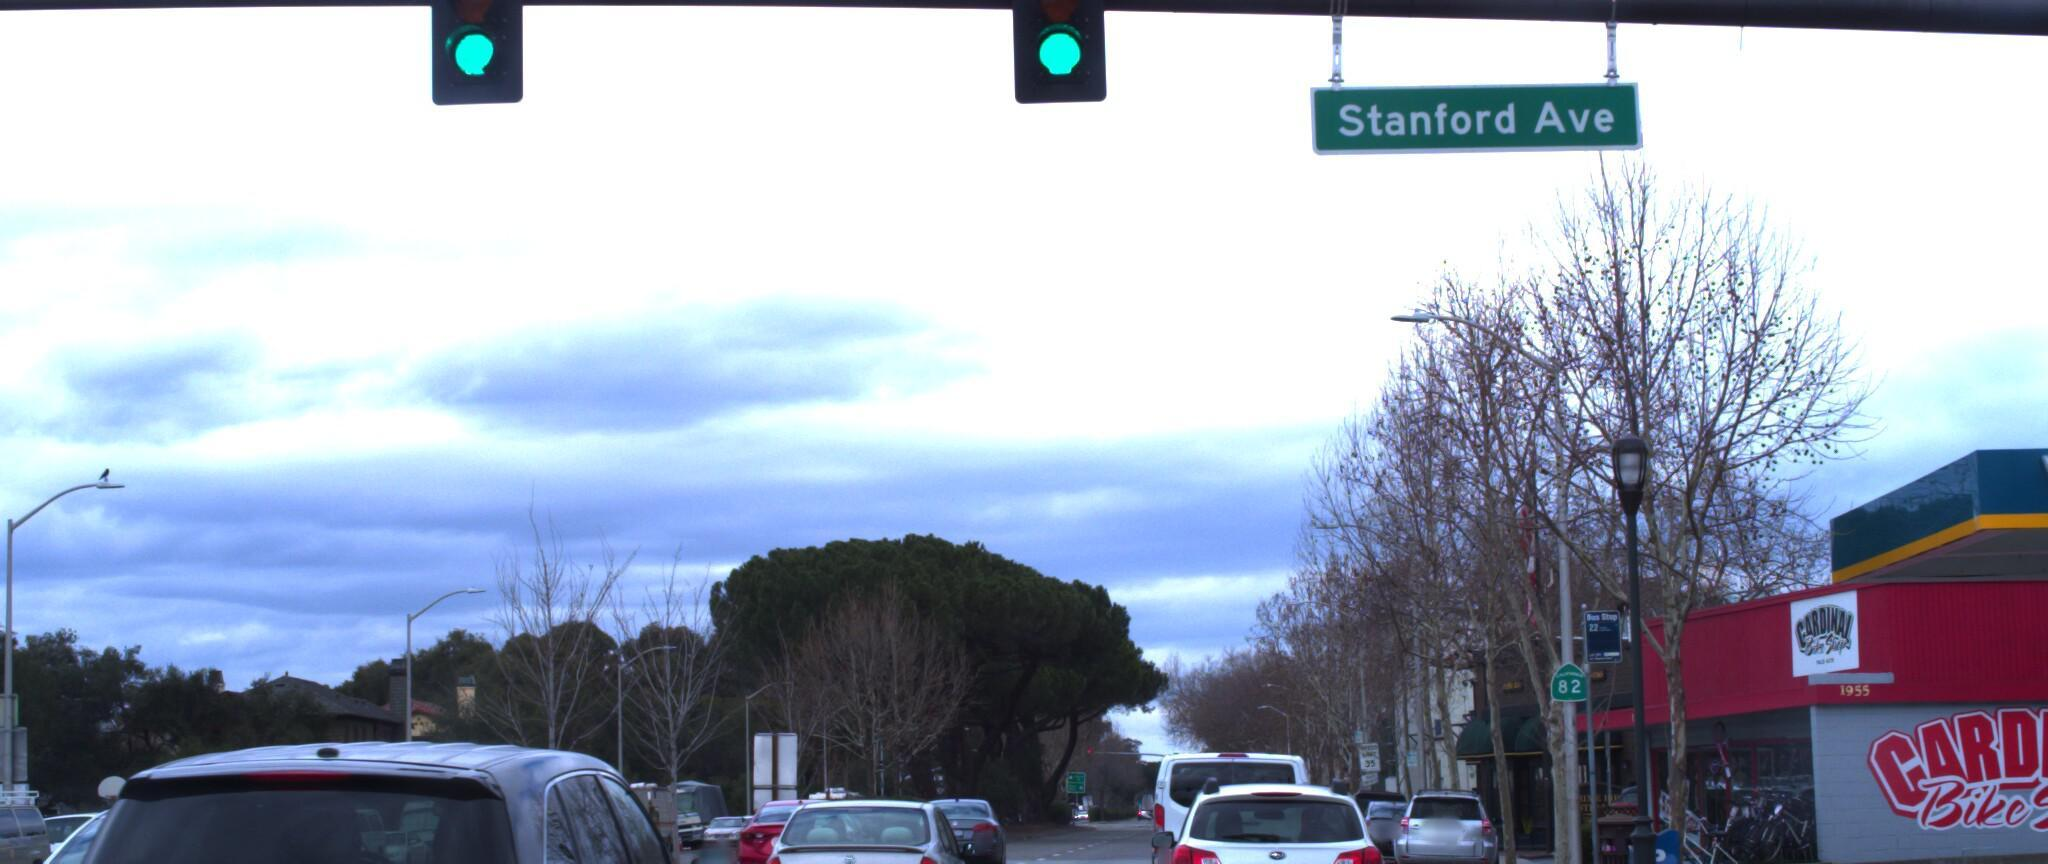car: (0, 670, 792, 864), (0, 767, 481, 864), (1145, 760, 1403, 864), (1142, 739, 1314, 864), (750, 787, 994, 864), (701, 784, 863, 864), (1391, 777, 1507, 864), (909, 801, 1023, 864), (0, 782, 80, 864)
